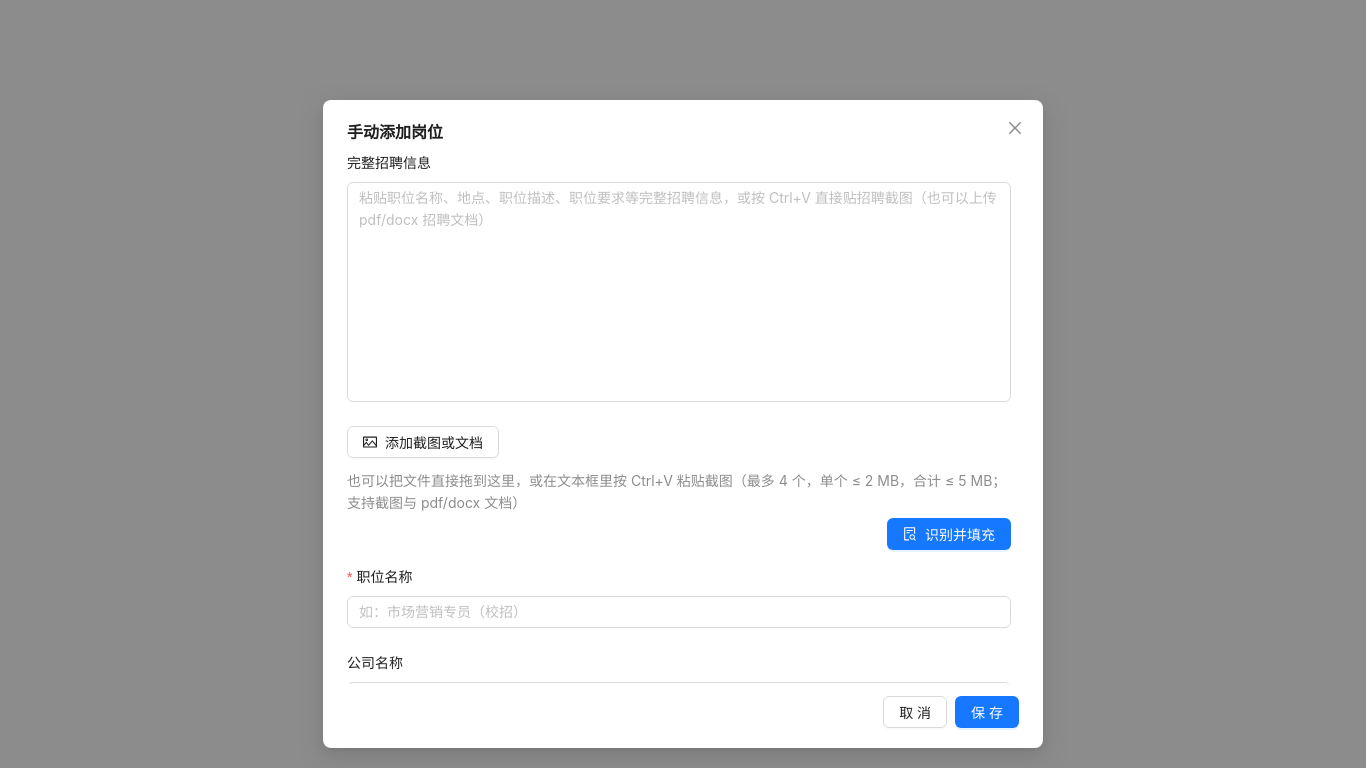
Test: JobFormModal › fills additional recruitment information returned by text parsing
This screenshot has width=1366, height=768.
Replace the text in the text box labelled "完整招聘信息" with "门店店长招聘信息" at (679, 292), box [347,182,1011,402]
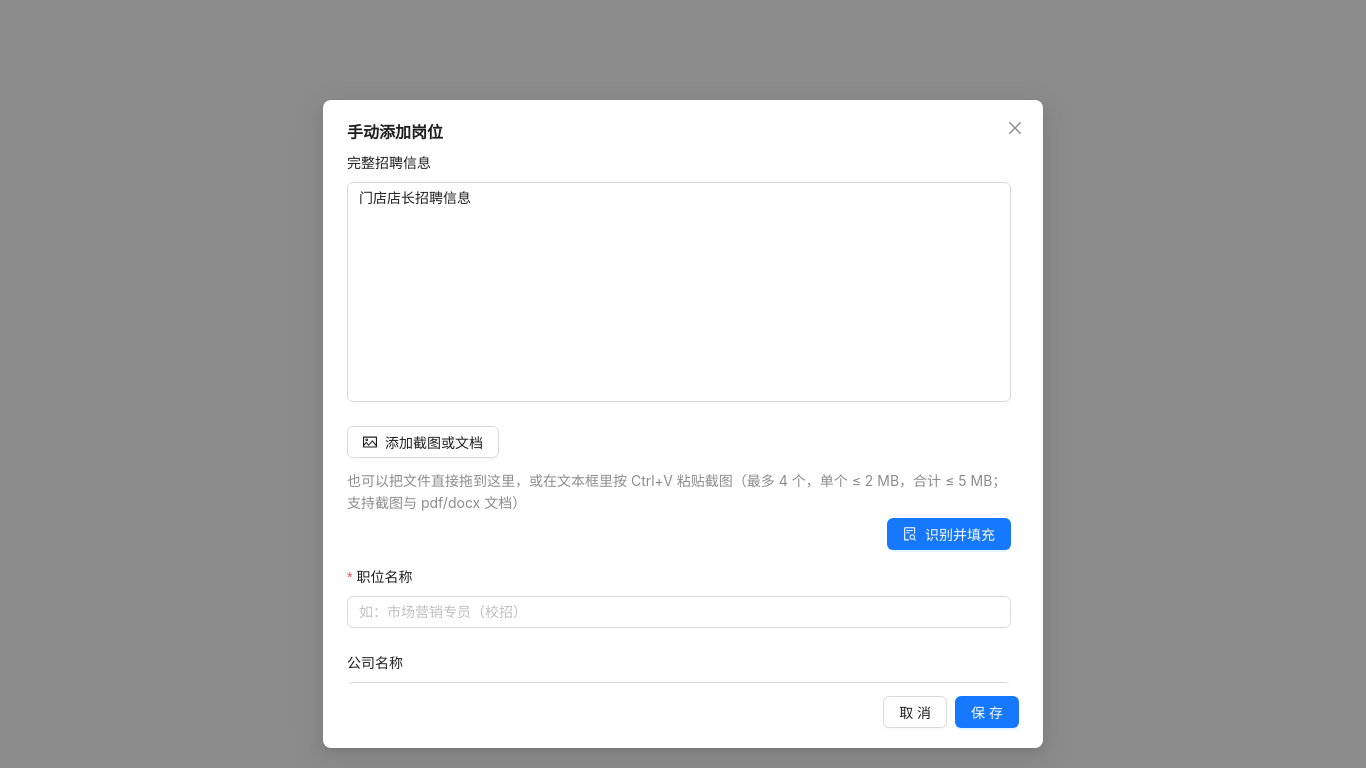
Click the button "识别并填充".
click(949, 534)  # box [887,518,1011,550]
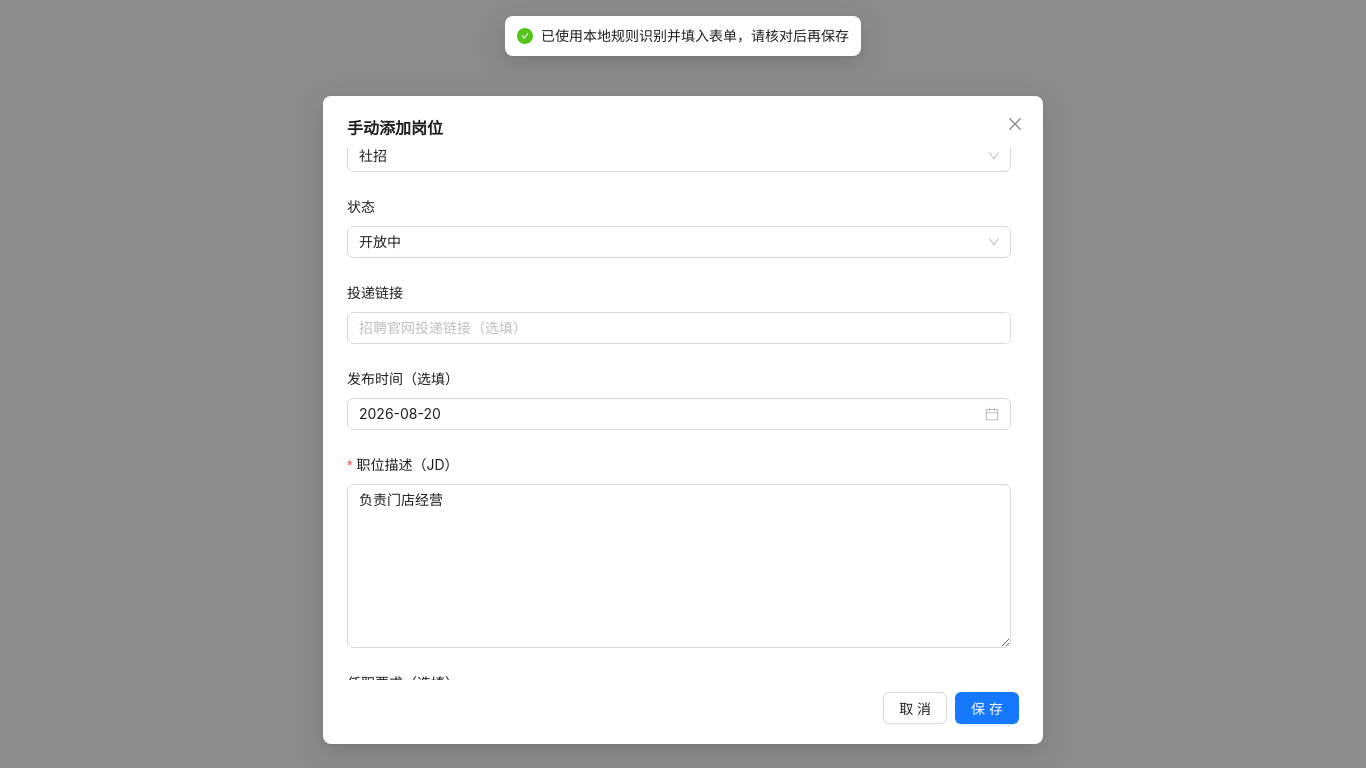
Expected: the field labelled "发布时间（选填）" holds "2026-08-20", [359,403,981,425]
